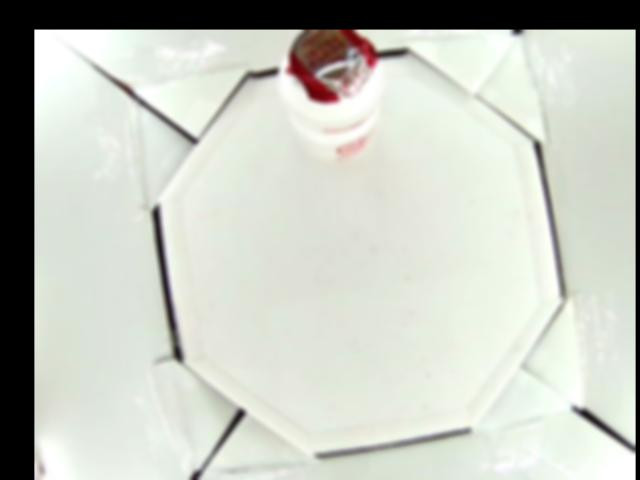Bottle: (274, 30, 384, 166)
